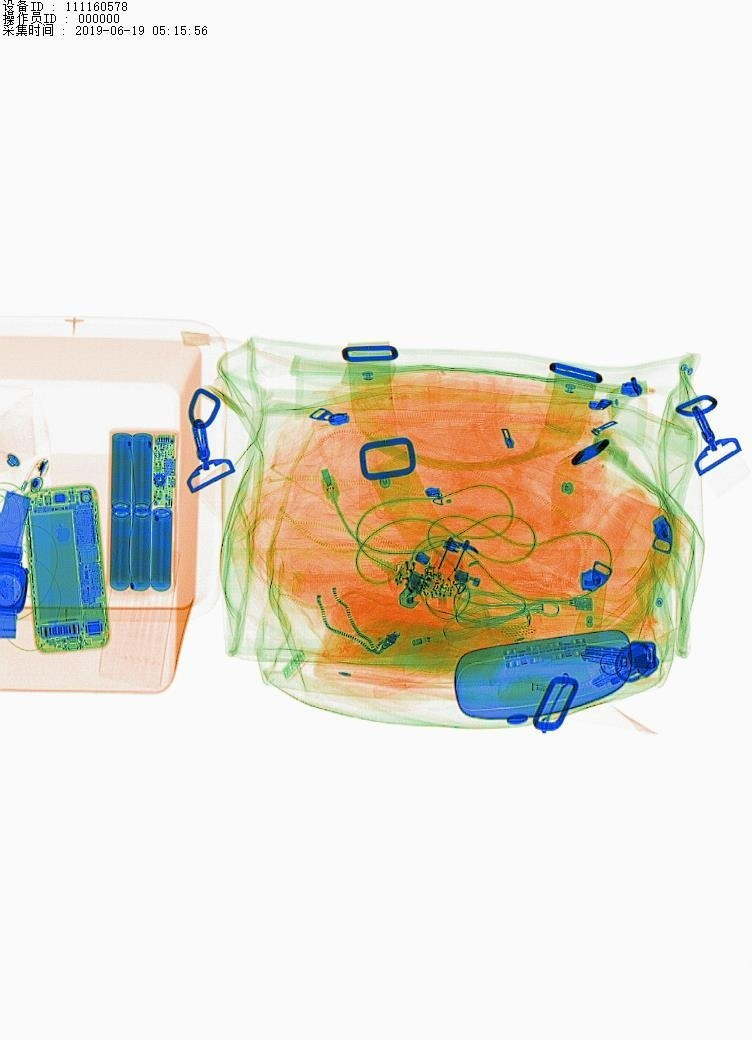NonmetallicFire: (394, 514, 486, 620)
